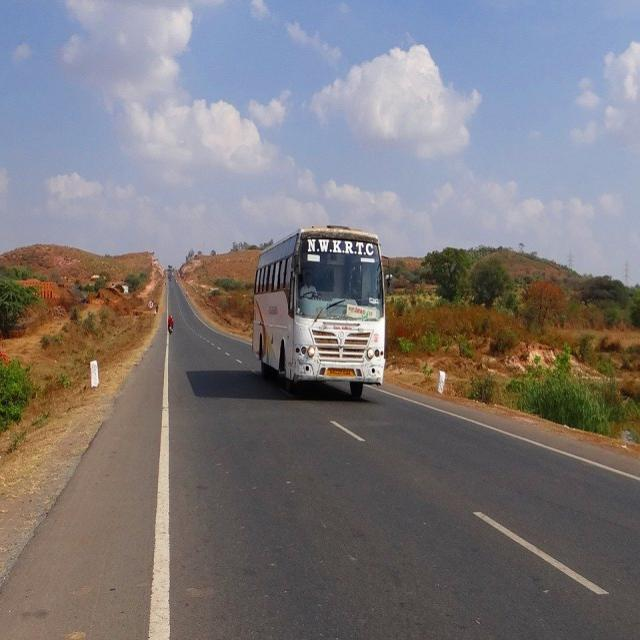BUS: (242, 210, 426, 420)
